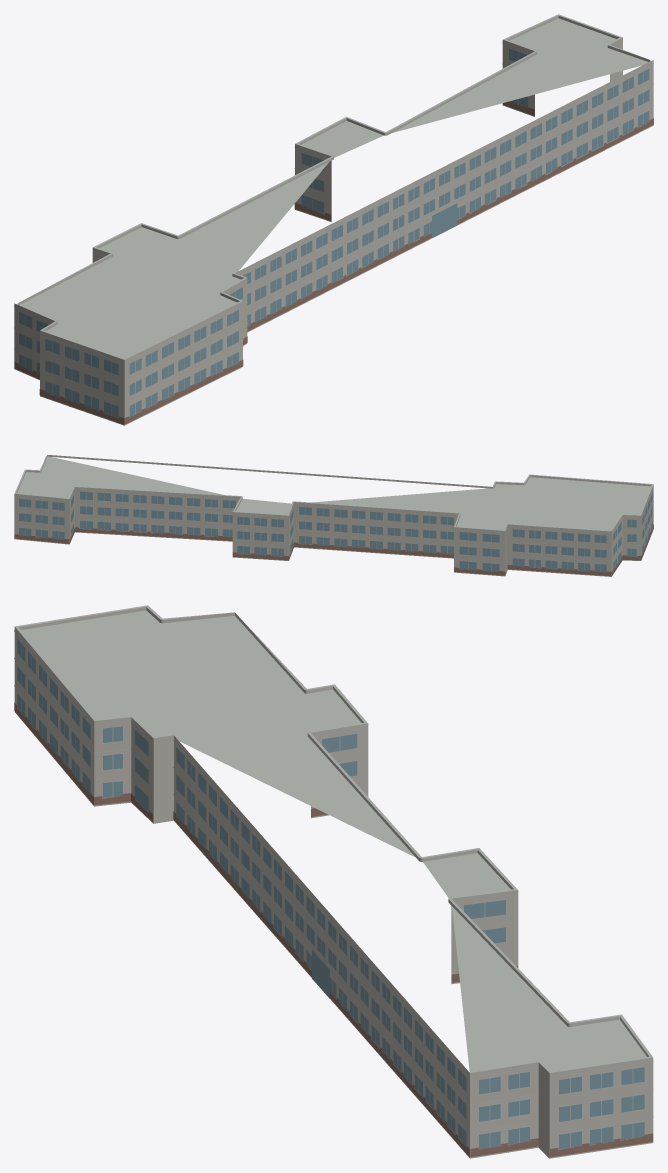
File: public-ce49701b-4416-4013-a97f-9eef25f247e8.glb
The picture shows the model from 3 angles, top to bottom: view 1: azimuth 30°, elevation 25°; view 2: azimuth 150°, elevation 25°; view 3: azimuth 270°, elevation 25°; orthographic projection. The views are drawn at different scales.
Parts seen in each view (by area): view 1: public-ce49701b-4416-4013-a97f-9eef25f247e8; view 2: public-ce49701b-4416-4013-a97f-9eef25f247e8; view 3: public-ce49701b-4416-4013-a97f-9eef25f247e8.
Boxes of the visible parts, x1,y1,x2,y2 form: public-ce49701b-4416-4013-a97f-9eef25f247e8: [14, 14, 653, 425]; public-ce49701b-4416-4013-a97f-9eef25f247e8: [14, 455, 653, 576]; public-ce49701b-4416-4013-a97f-9eef25f247e8: [14, 605, 653, 1158].
Size of the model in its own units: 107 by 9.15 by 62.03.
